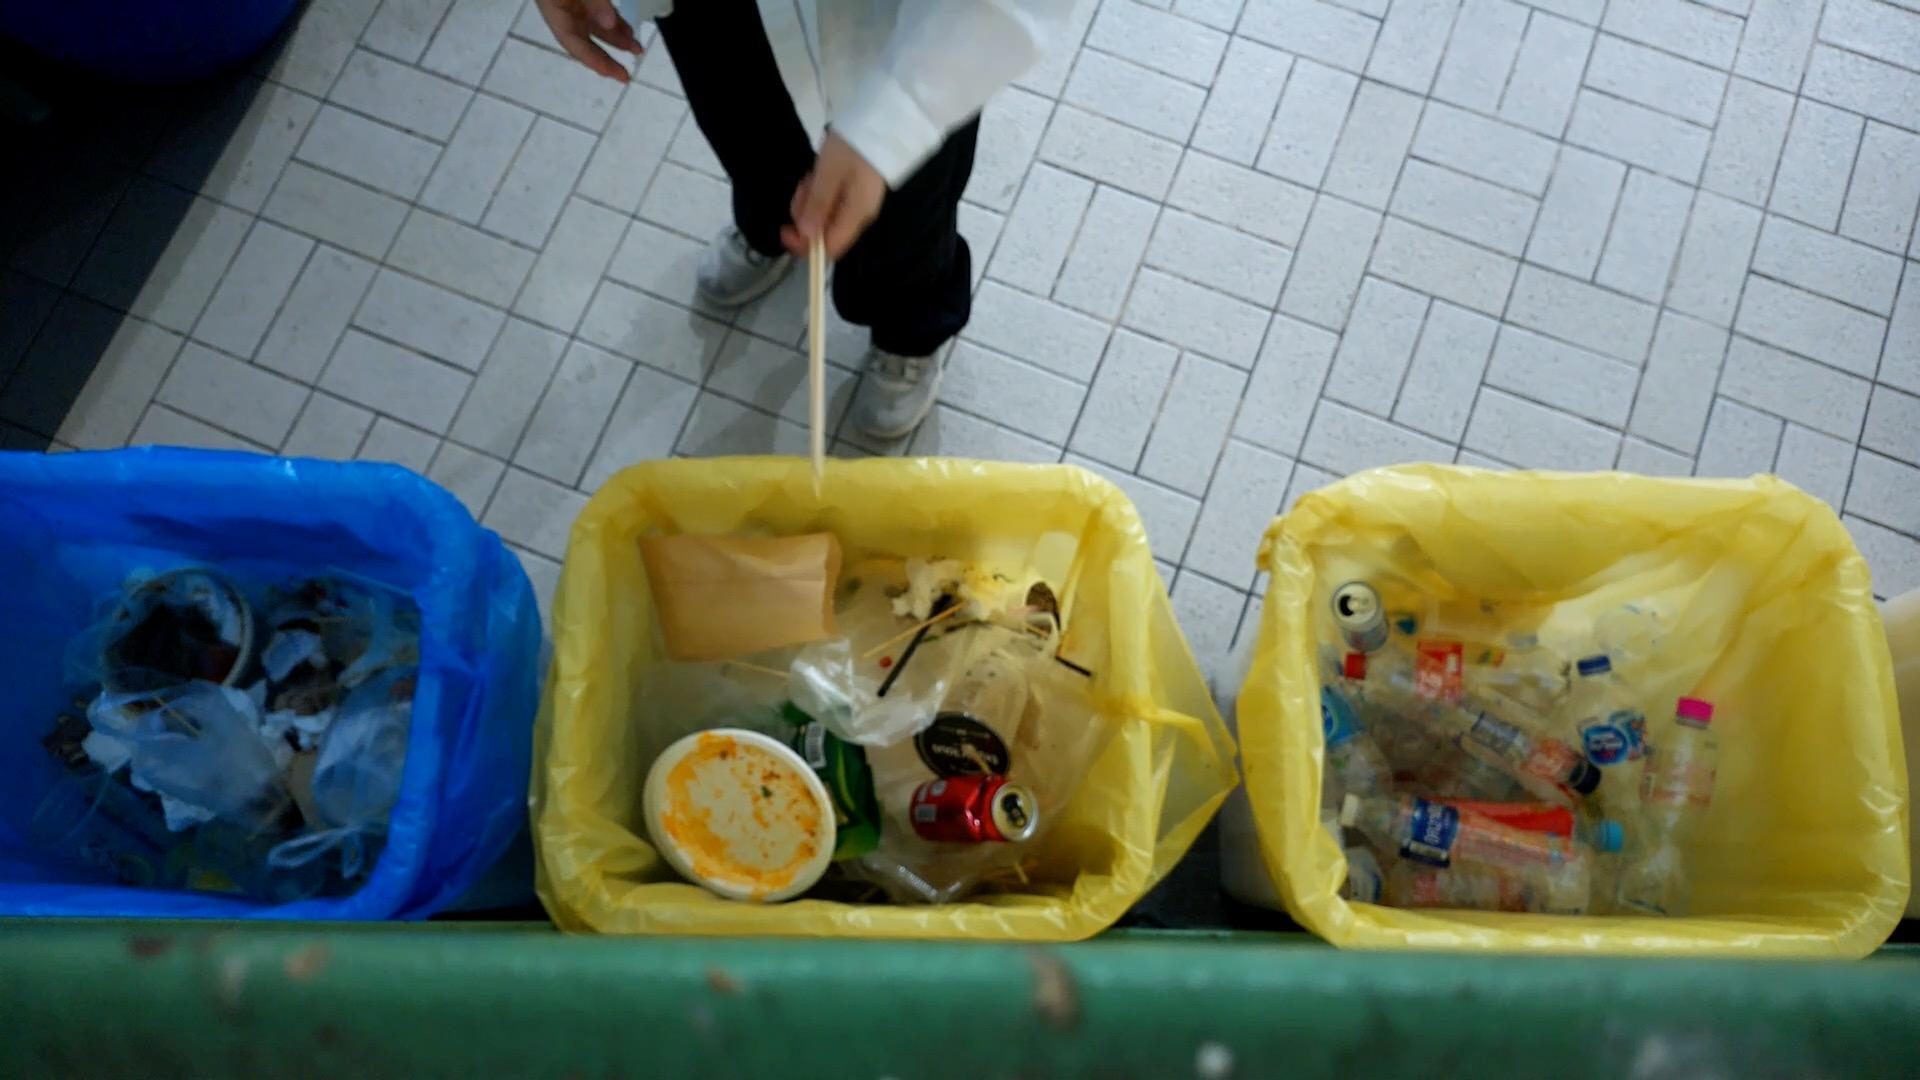can: (905, 771, 1042, 847), (1328, 578, 1390, 653)
dirty food container: (642, 727, 837, 903)
filled plastic bag: (260, 659, 426, 881)
paper bag: (633, 520, 847, 647)
plastic bag: (783, 555, 971, 753), (647, 524, 816, 729), (92, 680, 287, 832)
plastic bottle: (1337, 794, 1602, 907), (1611, 696, 1722, 919), (1338, 645, 1534, 766), (1571, 657, 1648, 828)
plastic cup: (911, 644, 1034, 782)
sticks: (806, 218, 832, 489), (864, 604, 961, 662), (688, 644, 794, 680)
straw: (876, 593, 943, 703)
tissue paper: (960, 550, 1036, 634), (886, 553, 968, 618)
